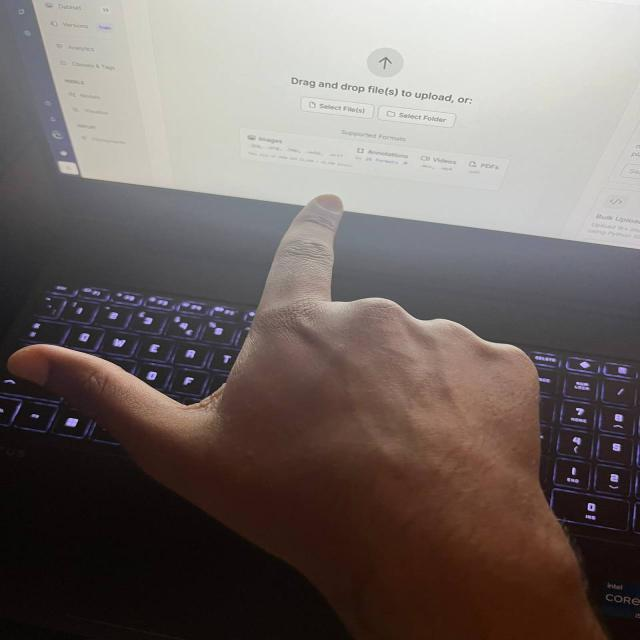hand thumb and index out: (12, 190, 580, 543)
